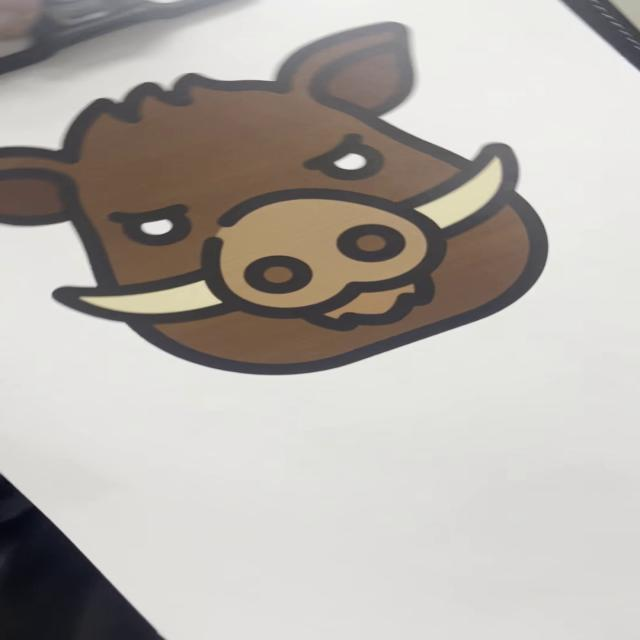animal: (1, 17, 571, 381)
